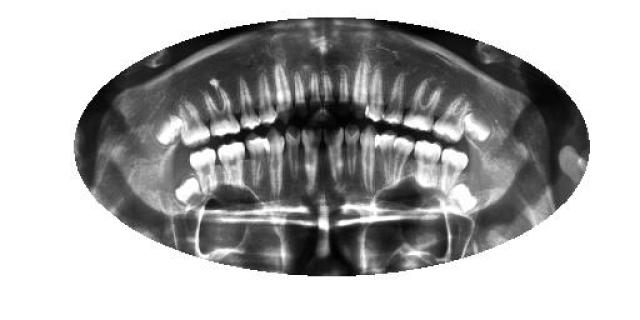Restorations: (461, 111, 495, 144), (153, 112, 185, 146)
